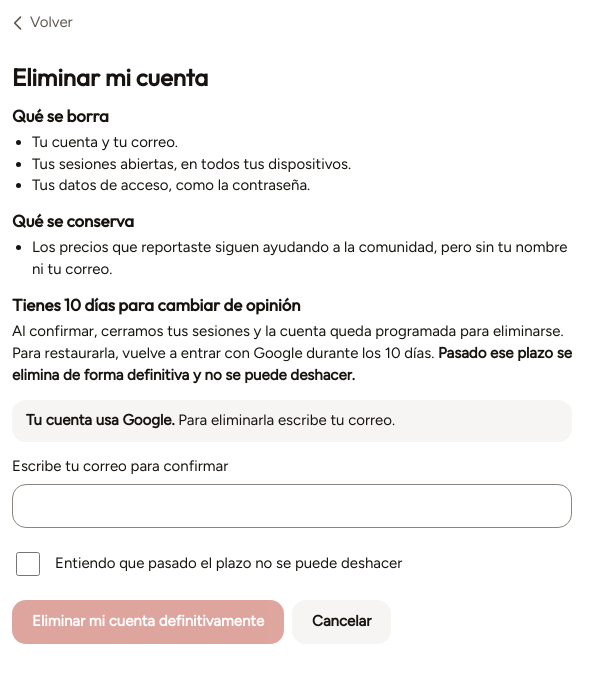
Test: eliminar la cuenta creada con Google › INVALID_CONFIRMATION marca el correo y enfoca el campo
The width and height of the screenshot is (593, 688).
Type "otro@correo.co" into the field labelled "Escribe tu correo para confirmar" at (292,506), box [12,484,572,528]
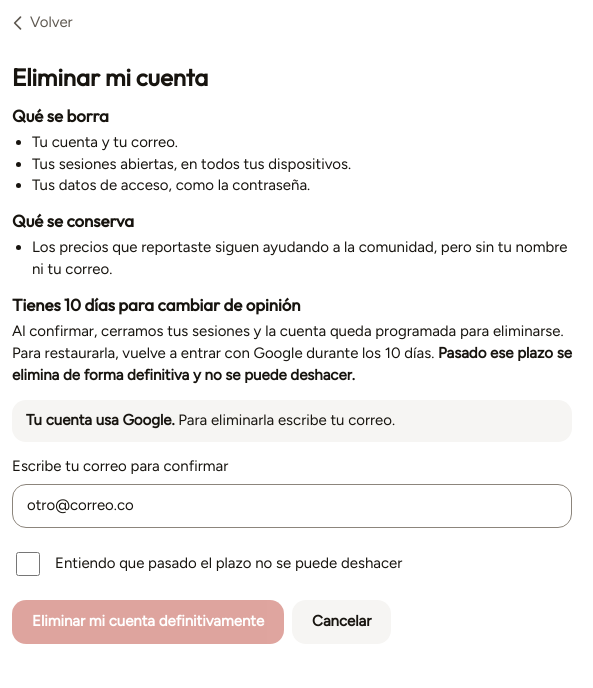
Click the checkbox at (28,564), box [16,552,40,576]
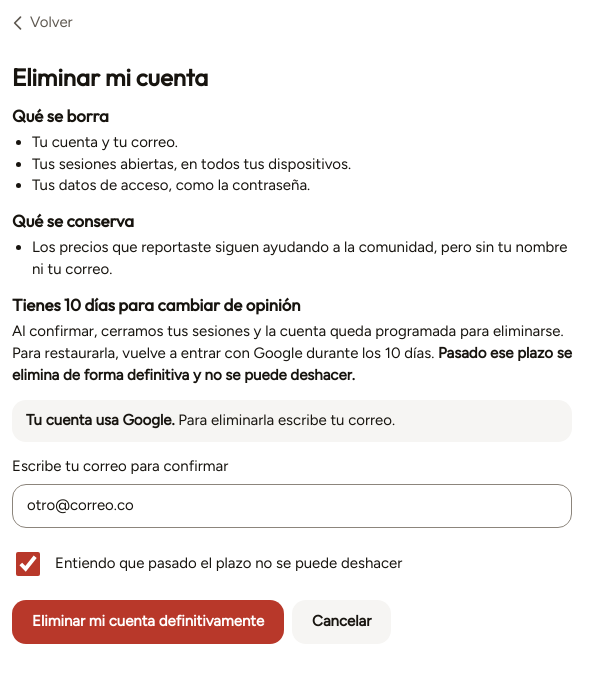
Click the button "Eliminar mi cuenta definitivamente" at (148,622), box [12,600,284,644]
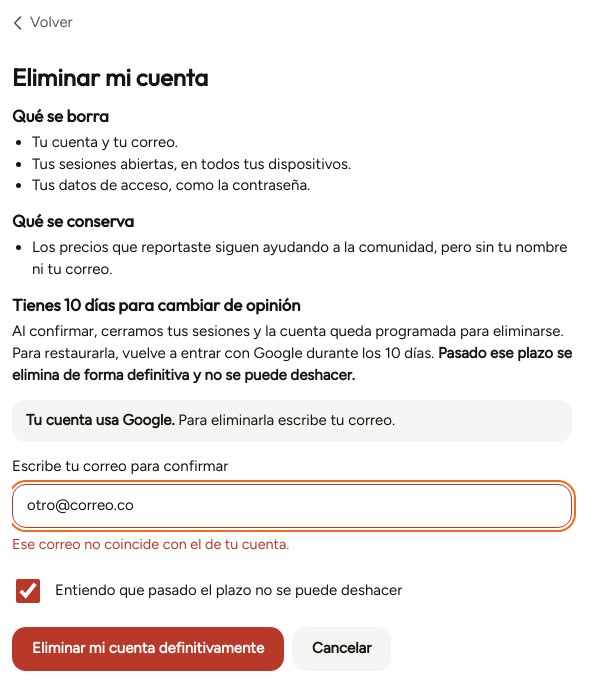
expect the button "Eliminar mi cuenta definitivamente" is enabled: met, box [12,627,284,671]
expect the text "Ese correo no coincide con el de tu cuenta." is shown: met, box [12,535,289,553]
